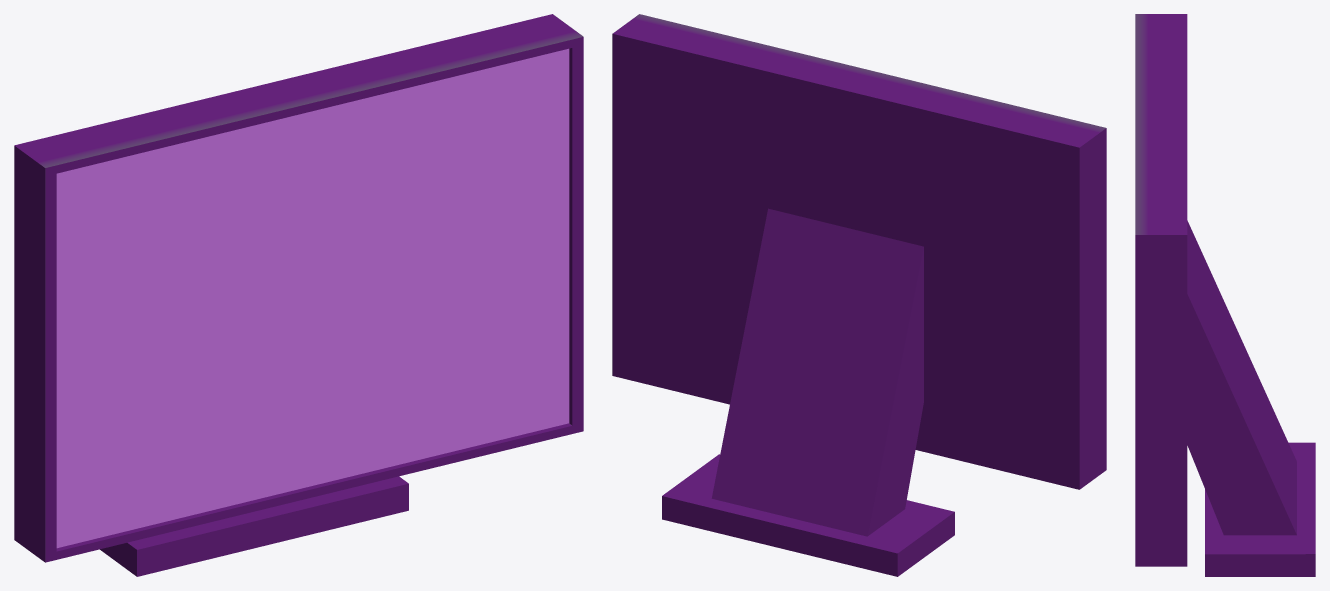
Rendered from Monitor_WorkRoom.glb.
3 views of the same model, side by side, from view 1: azimuth 30°, elevation 25°; view 2: azimuth 150°, elevation 25°; view 3: azimuth 270°, elevation 25° (orthographic). The views are drawn at different scales.
Parts seen in each view (by area): view 1: Monitor.001; view 2: Monitor.001; view 3: Monitor.001.
Boxes of the visible parts, x1,y1,x2,y2 form: Monitor.001: (14,14,583,576); Monitor.001: (612,14,1106,576); Monitor.001: (1135,14,1315,576).
Size of the model in its own units: 0.5 by 0.4185 by 0.1727.
Materials: 1 (1 with a texture image).
